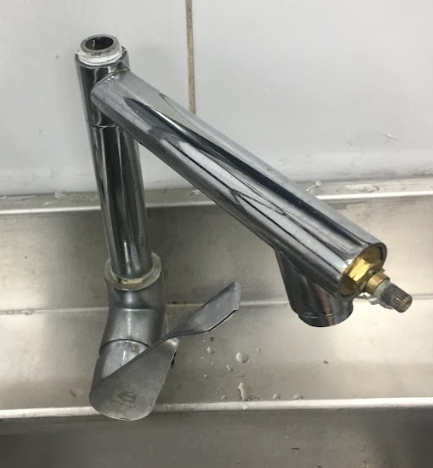Deck Faucet: (31, 19, 428, 454)
